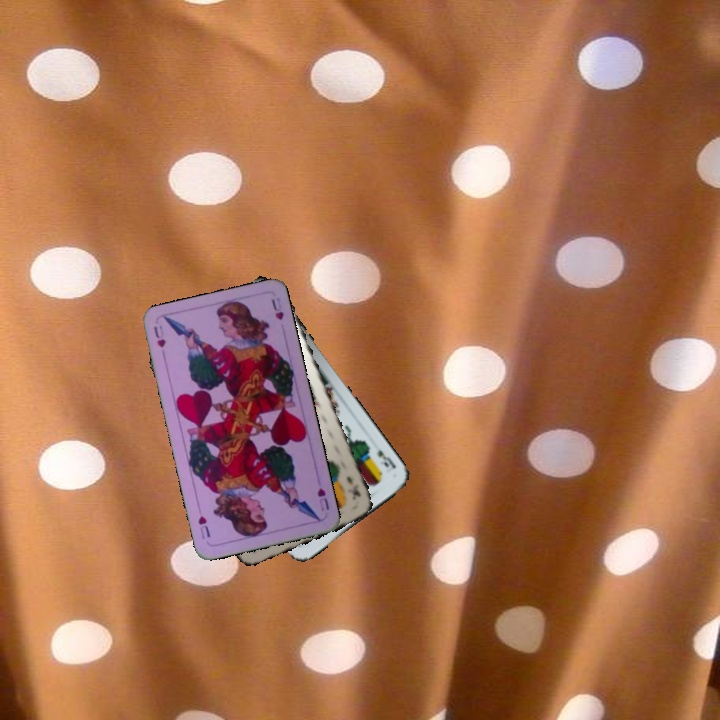EK: (373, 446, 398, 471), (343, 472, 363, 502)
HU: (313, 483, 332, 513), (150, 321, 168, 350)
